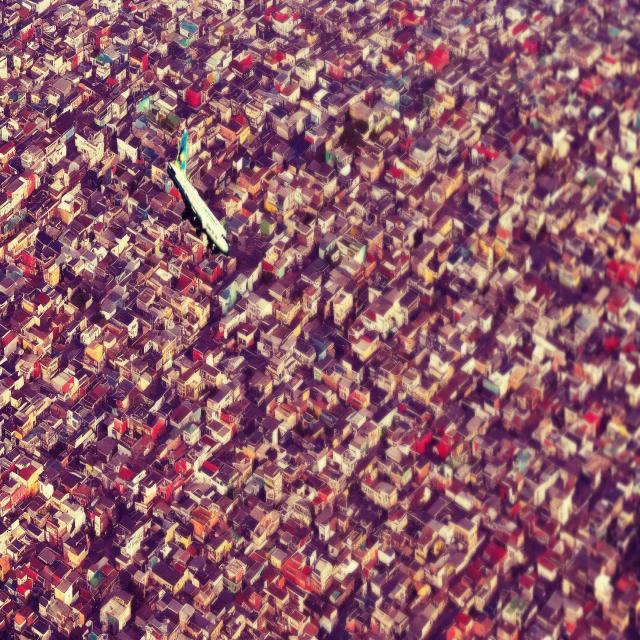airplane: (166, 126, 229, 256)
